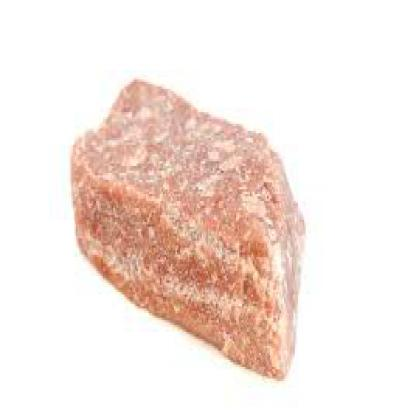Metamorphic_Quartize: (56, 73, 312, 384)
